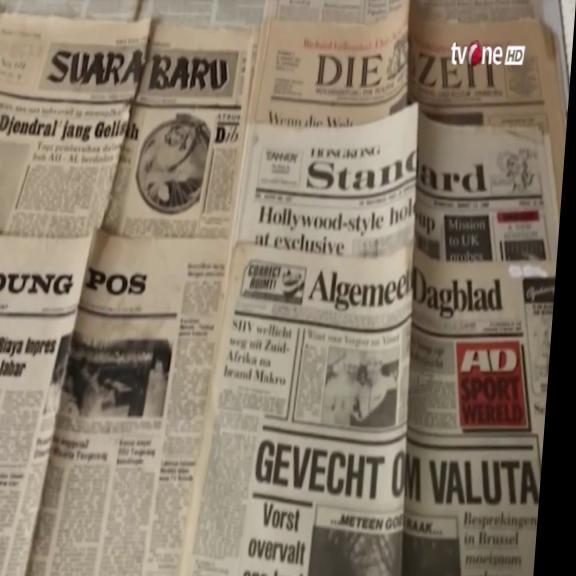Kertas: (0, 3, 572, 248), (180, 237, 421, 576), (26, 226, 229, 570), (0, 7, 152, 247), (0, 223, 96, 571)
